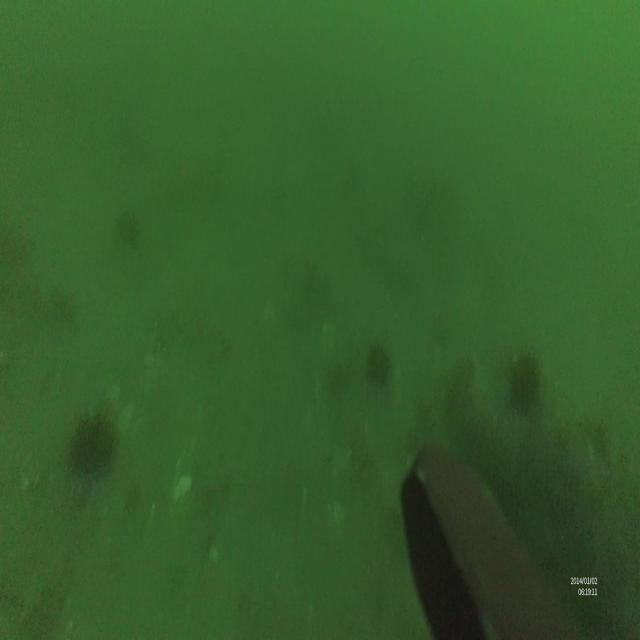echinus: (69, 412, 117, 474), (509, 349, 543, 411)
